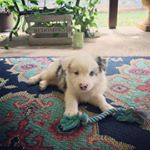puppy: (18, 51, 118, 117)
